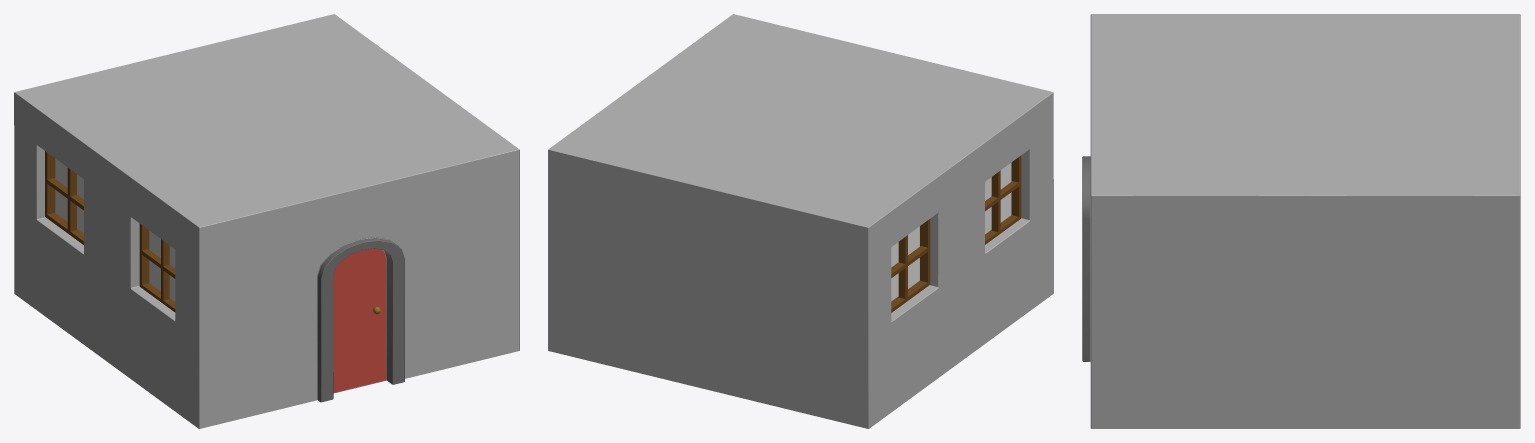
File: B_Door_1.fbx
3 renders of one model, left to right at view 1: azimuth 30°, elevation 25°; view 2: azimuth 150°, elevation 25°; view 3: azimuth 270°, elevation 25°, orthographic. The views are drawn at different scales.
Parts seen in each view (by area): view 1: Wall, Door, Arch.001, Window_2, window_1; view 2: Wall, Window_2, window_1; view 3: Wall, Arch.001.
Boxes of the visible parts, x1=… form: Wall: x1=14, y1=14, x2=519, y2=428; Door: x1=333, y1=248, x2=386, y2=392; Arch.001: x1=317, y1=238, x2=404, y2=402; Window_2: x1=45, y1=151, x2=83, y2=244; window_1: x1=139, y1=223, x2=175, y2=312; Wall: x1=548, y1=14, x2=1053, y2=428; Window_2: x1=891, y1=219, x2=930, y2=312; window_1: x1=985, y1=155, x2=1021, y2=244; Wall: x1=1090, y1=14, x2=1520, y2=428; Arch.001: x1=1082, y1=156, x2=1090, y2=361.
Size of the model in its own units: 500 by 300 by 510.
